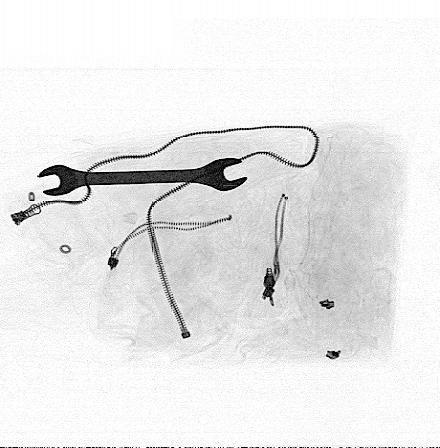Wrench: (35, 156, 253, 197)
